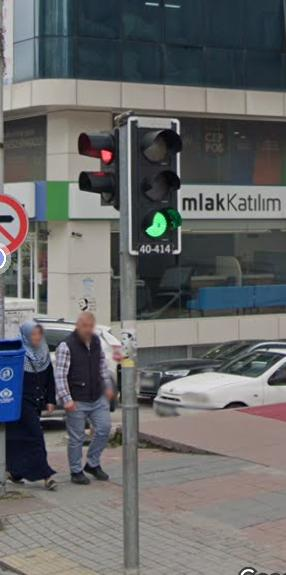greenlight: (129, 115, 186, 256)
redlight: (76, 123, 118, 212)
